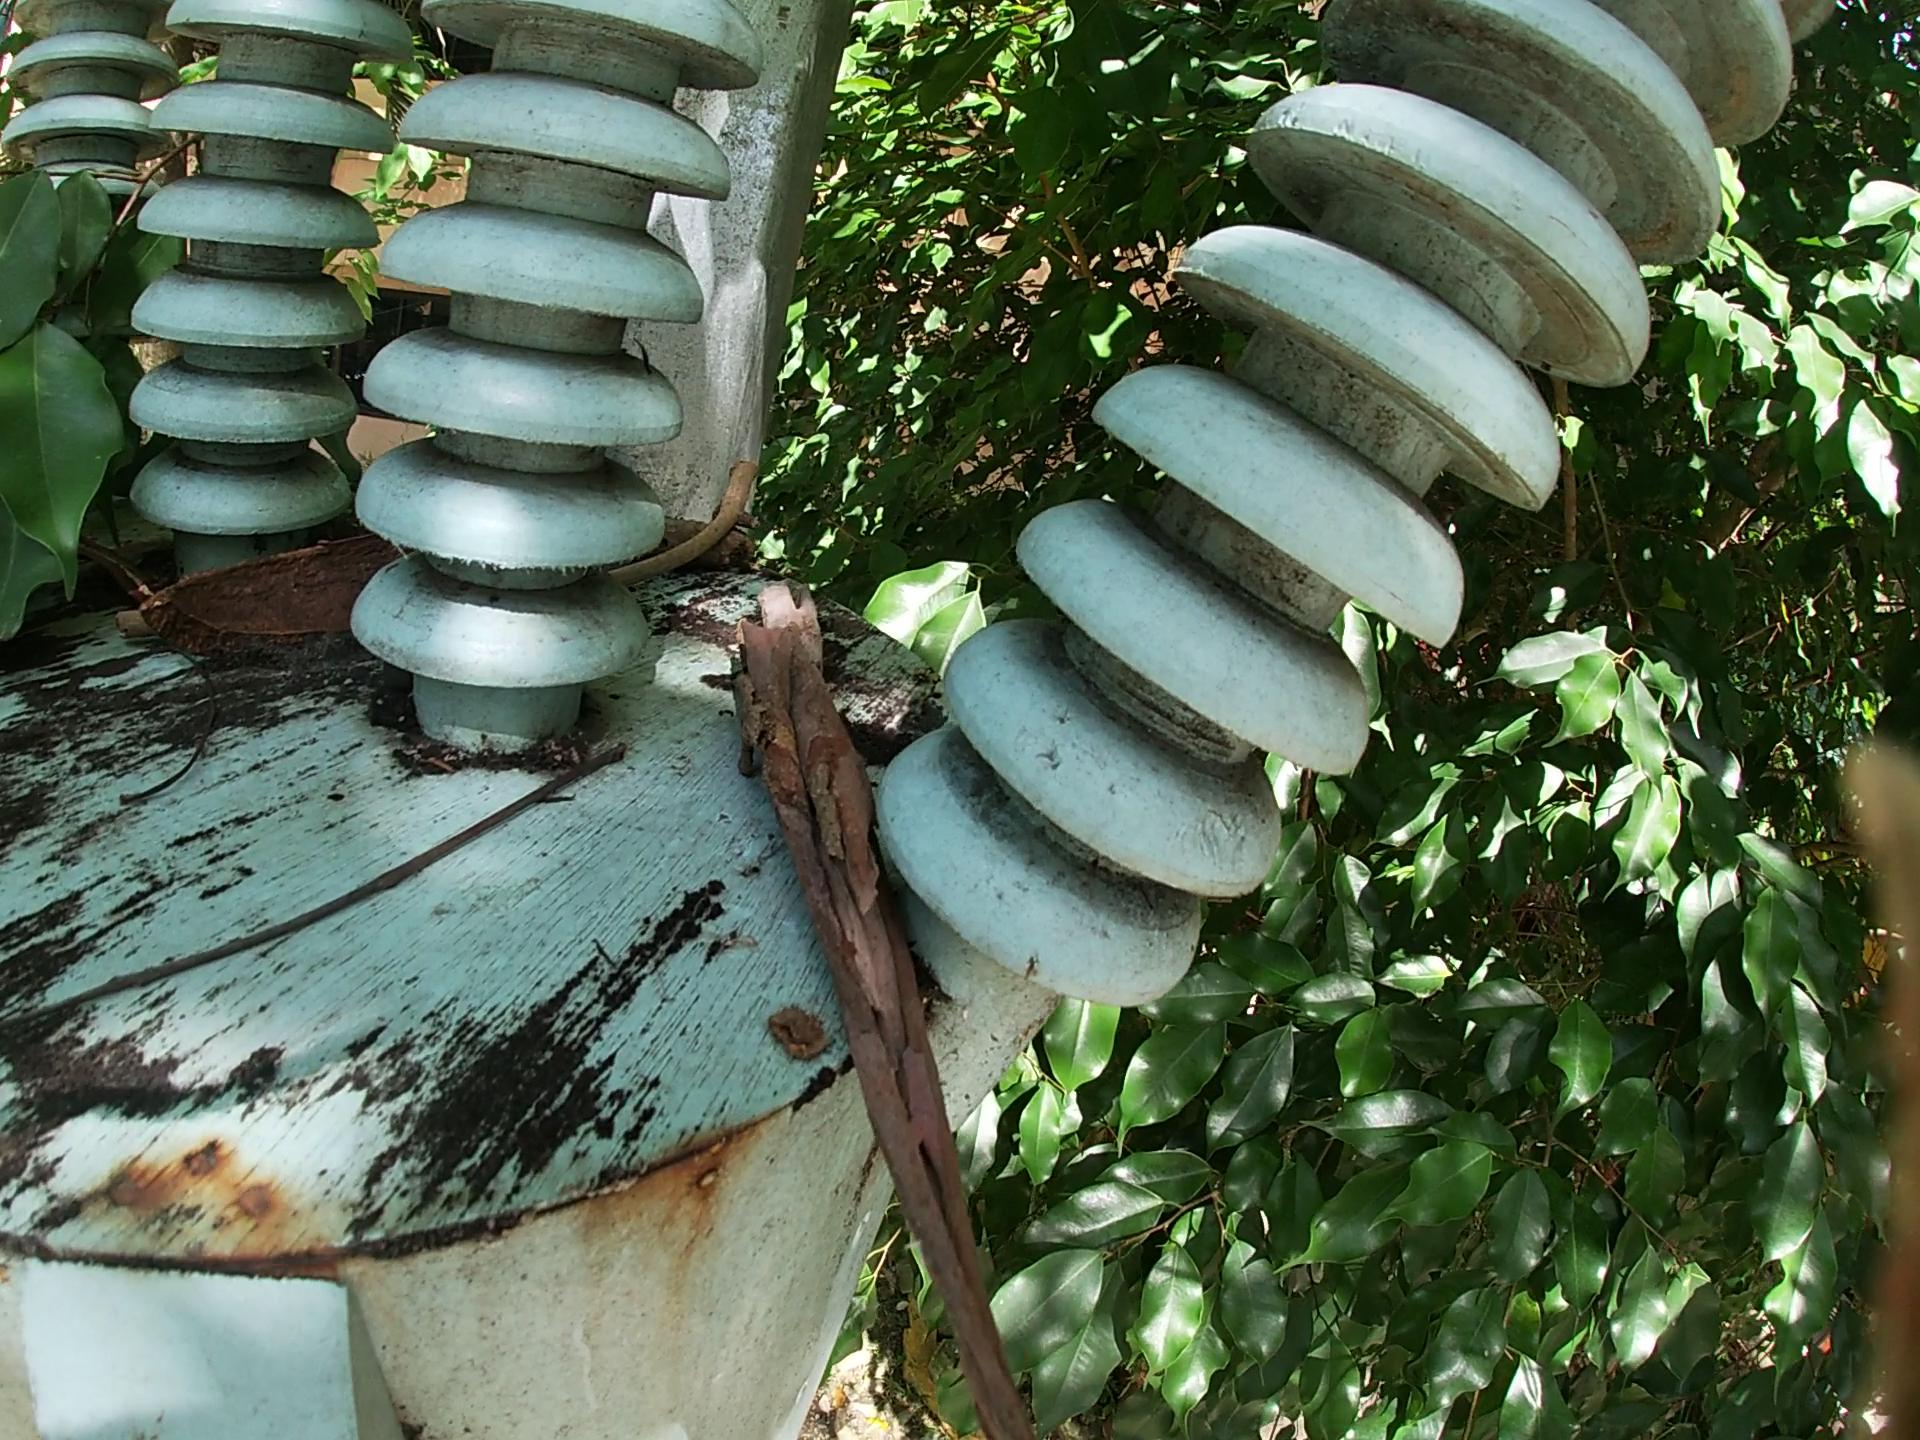branch with leaves: (2, 116, 195, 732)
mahogany fruit: (124, 526, 416, 664)
tree branch: (721, 555, 1098, 1417), (2, 725, 653, 1057), (94, 643, 234, 829), (605, 448, 766, 593), (629, 505, 779, 570), (107, 604, 148, 656)
